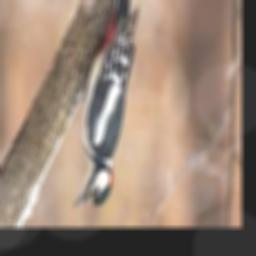Woodpecker: (73, 0, 138, 209)
